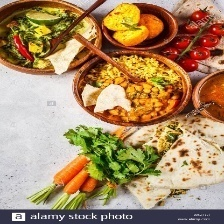sabzi: (1, 8, 99, 72)
